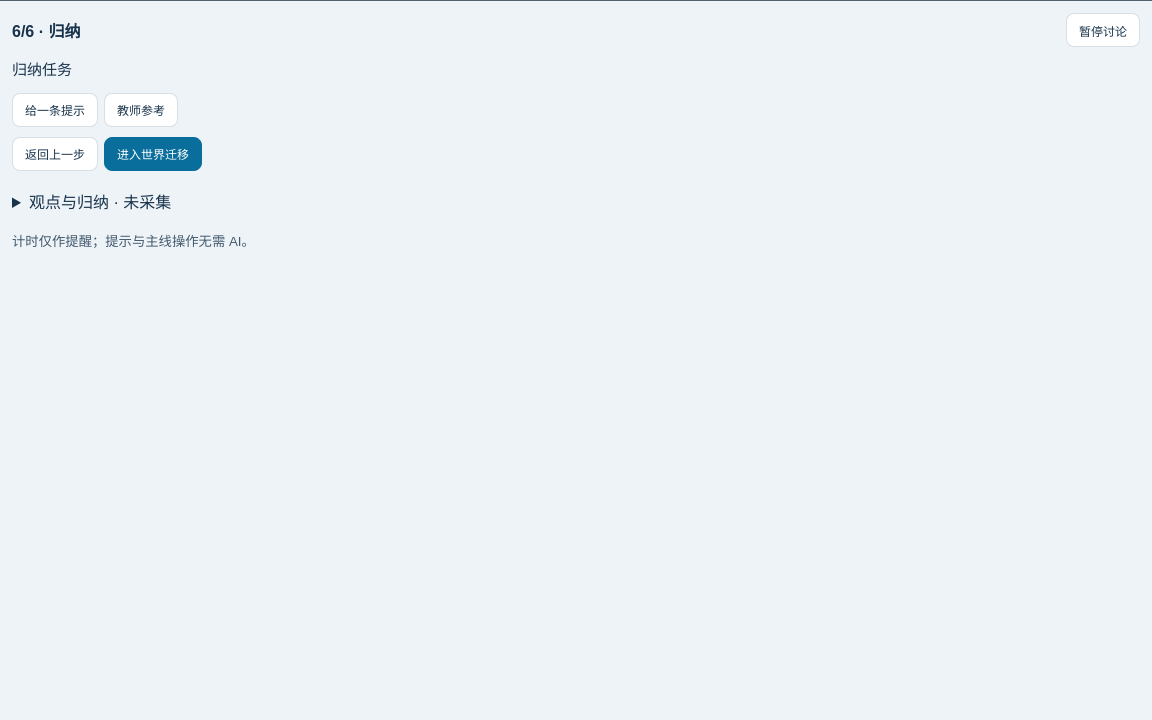
Test: restores the step from real session events and retains failed drafts
expect the text "归纳任务" is shown: met, box [12,61,72,78]
expect the heading "观点与归纳 · 未采集" is shown: met, box [29,194,171,210]
Step 1. Click the button "教师参考" → (141, 110), box [104,92,178,126]
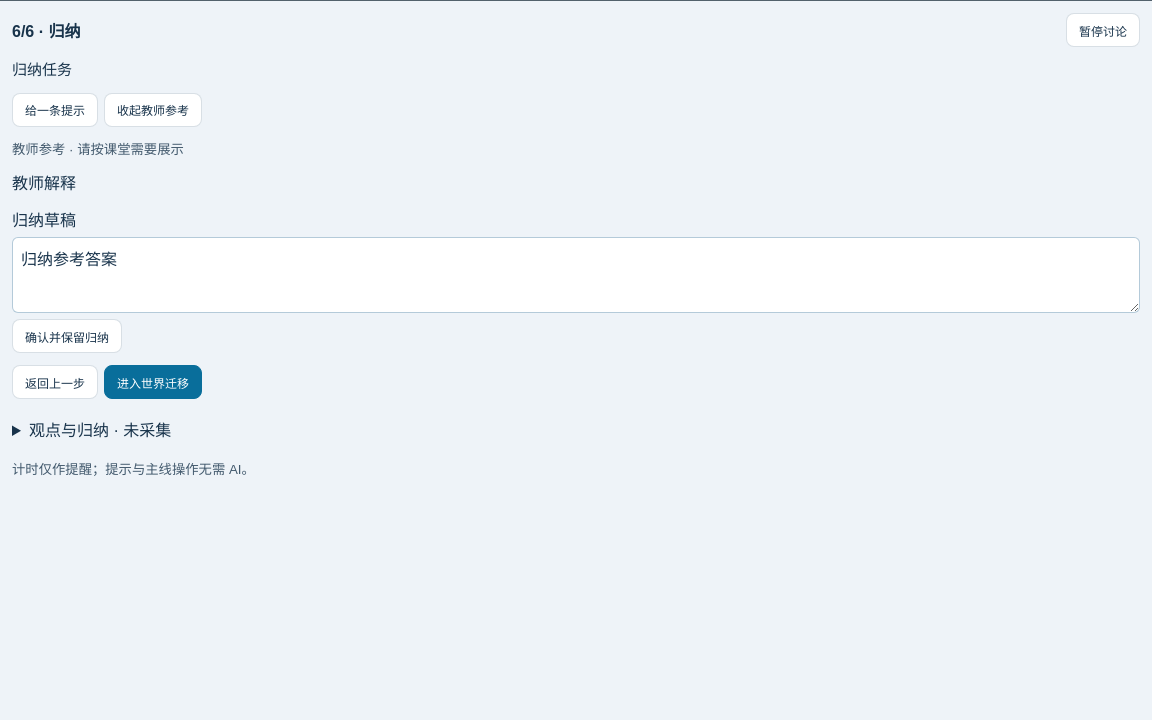
Step 2. Click the button "确认并保留归纳" → (67, 336), box [12,319,122,353]
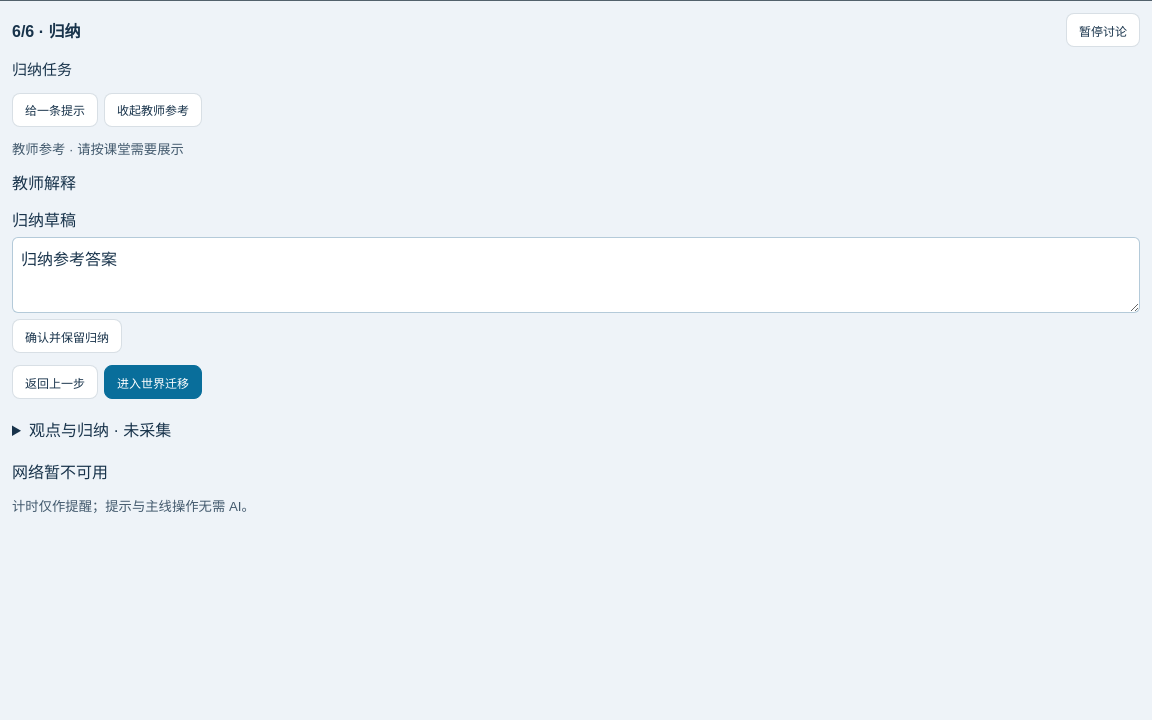
expect the text box named "教师归纳草稿" holds "归纳参考答案": met, box [12,237,1140,313]
expect the message reads "网络暂不可用": met, box [12,464,108,481]
